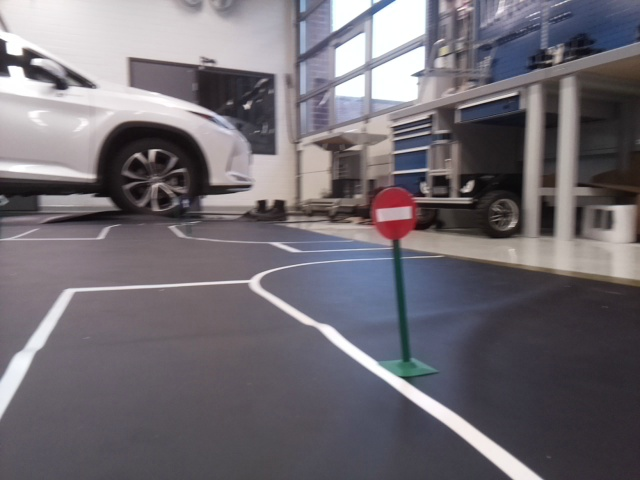NoEntry: (365, 186, 417, 236)
